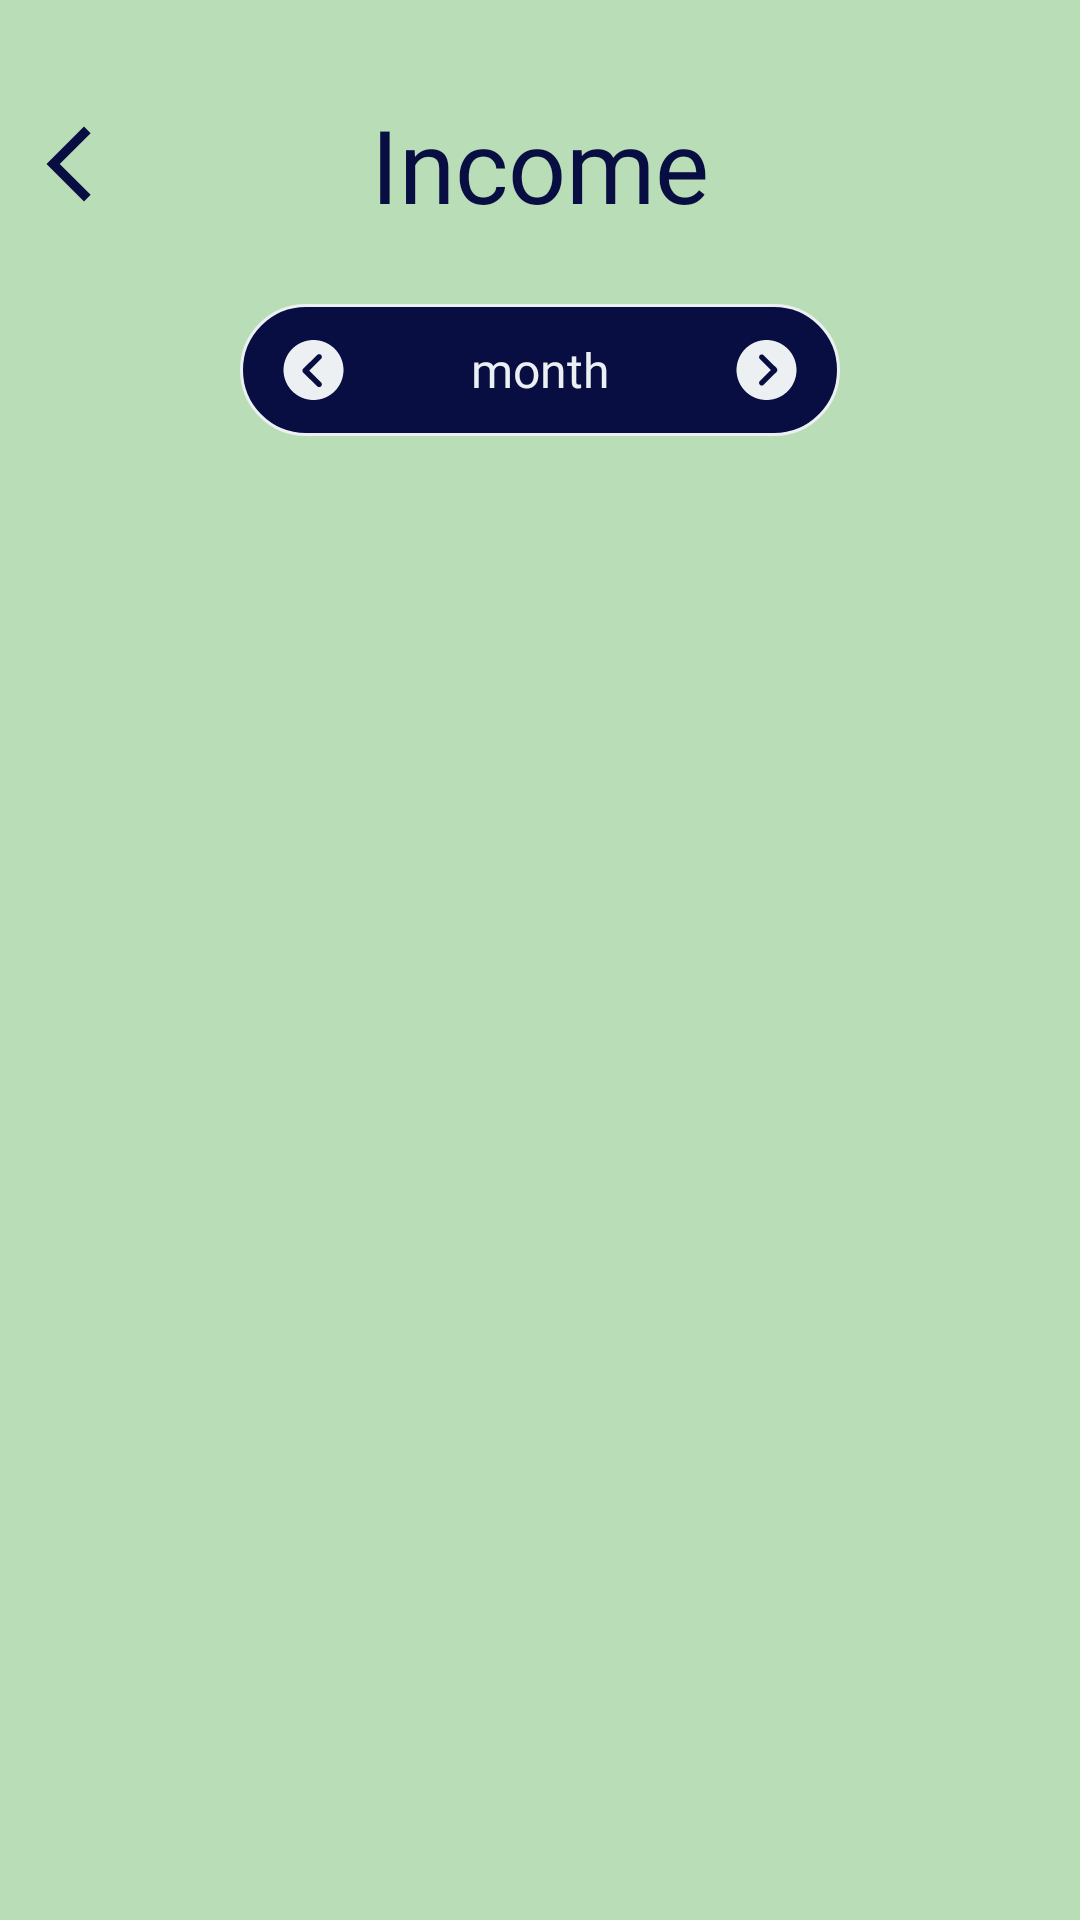

Icon bounding boxes for this 1080×1920 phone screenshot, format box(x1, y1, x2, y2):
back: box(46, 126, 91, 202)
